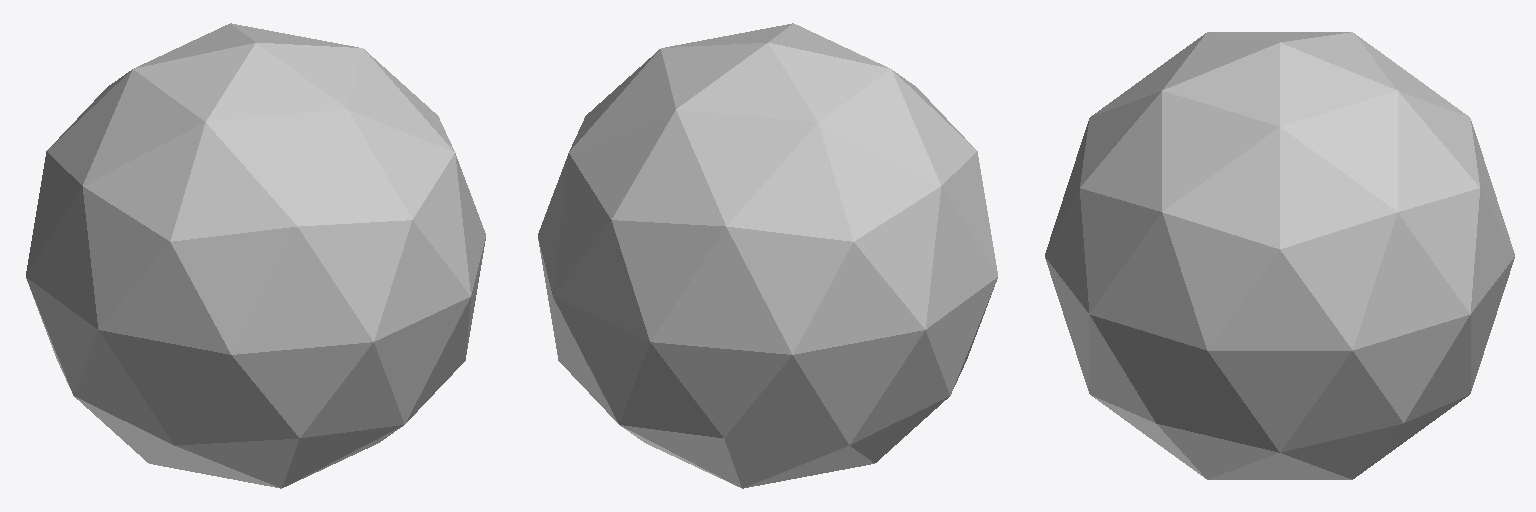
File: icosphere_translated.obj
3 views of the same model, side by side, from view 1: azimuth 30°, elevation 25°; view 2: azimuth 150°, elevation 25°; view 3: azimuth 270°, elevation 25° (orthographic).
Parts seen in each view (by area): view 1: icosphere:Mesh; view 2: icosphere:Mesh; view 3: icosphere:Mesh.
Part boxes in pixels (left/top/right/bottom): icosphere:Mesh: left=26, top=23, right=485, bottom=488; icosphere:Mesh: left=538, top=23, right=997, bottom=488; icosphere:Mesh: left=1045, top=32, right=1514, bottom=479.
Size of the model in its own units: 0.0951 by 0.1 by 0.1.